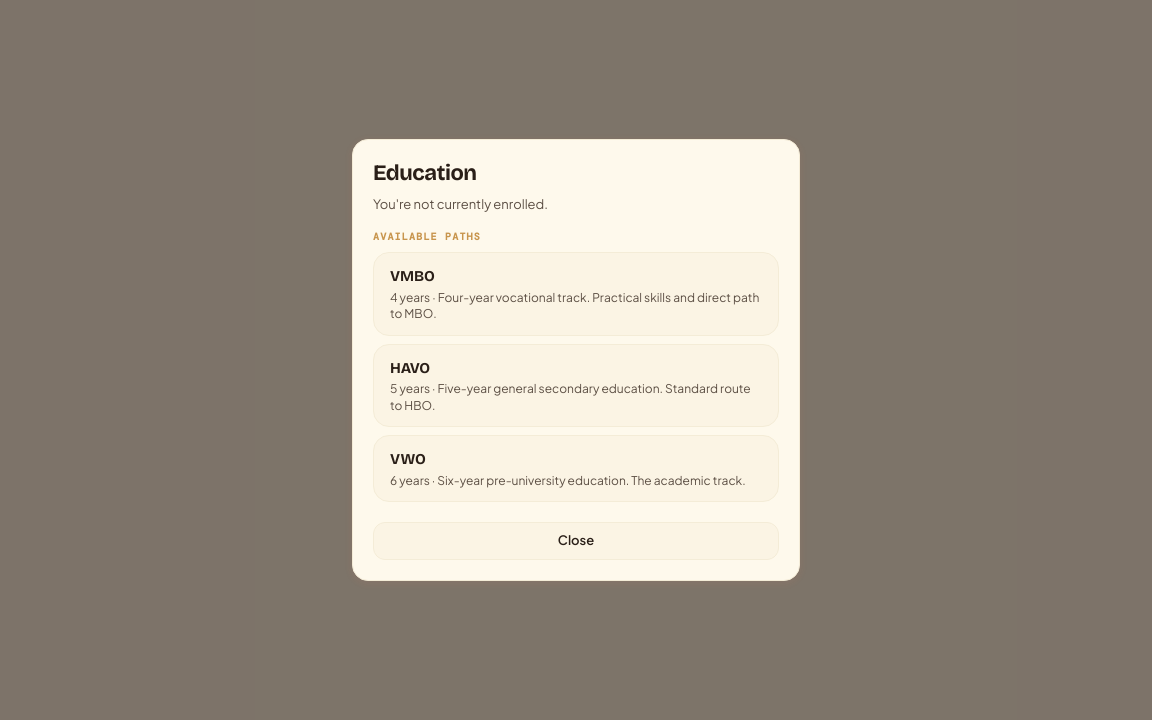
Scenario: EducationDetailModal — re-enrol surface › opens the specialisation picker when clicking a stage with hasSpecialization
The width and height of the screenshot is (1152, 720).
Click the button with test id "education-detail-stage-vwo" at [408, 459], box 373,435 -> 779,502
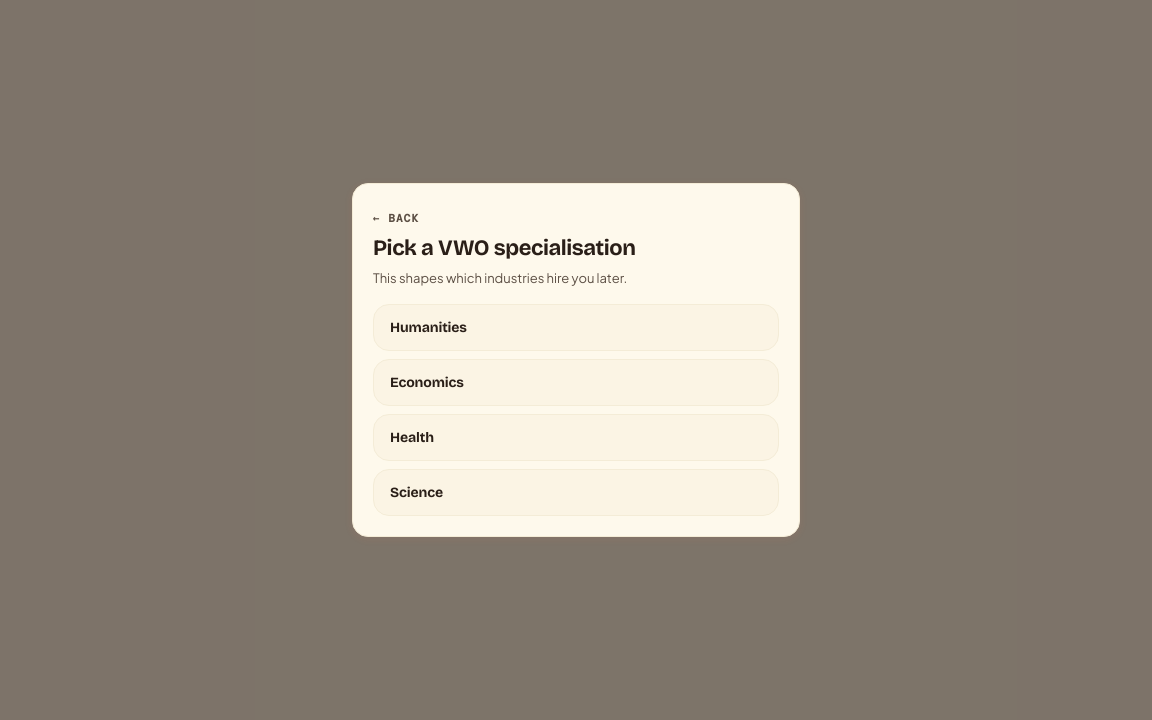
Check: the button with test id "education-detail-stage-vwo" is gone
Check: the button with test id "education-detail-spec-science" is shown, box 373,469 -> 779,516
Check: the button with test id "education-detail-spec-economics" is shown, box 373,359 -> 779,406
